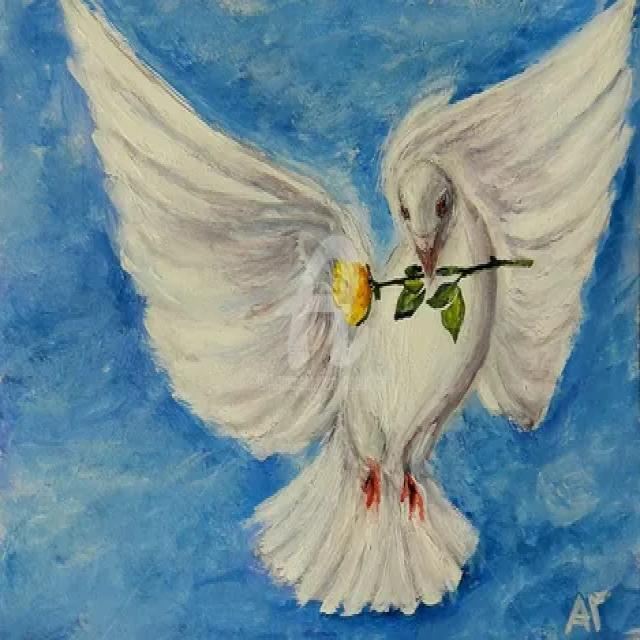pigeon: (52, 0, 640, 612)
